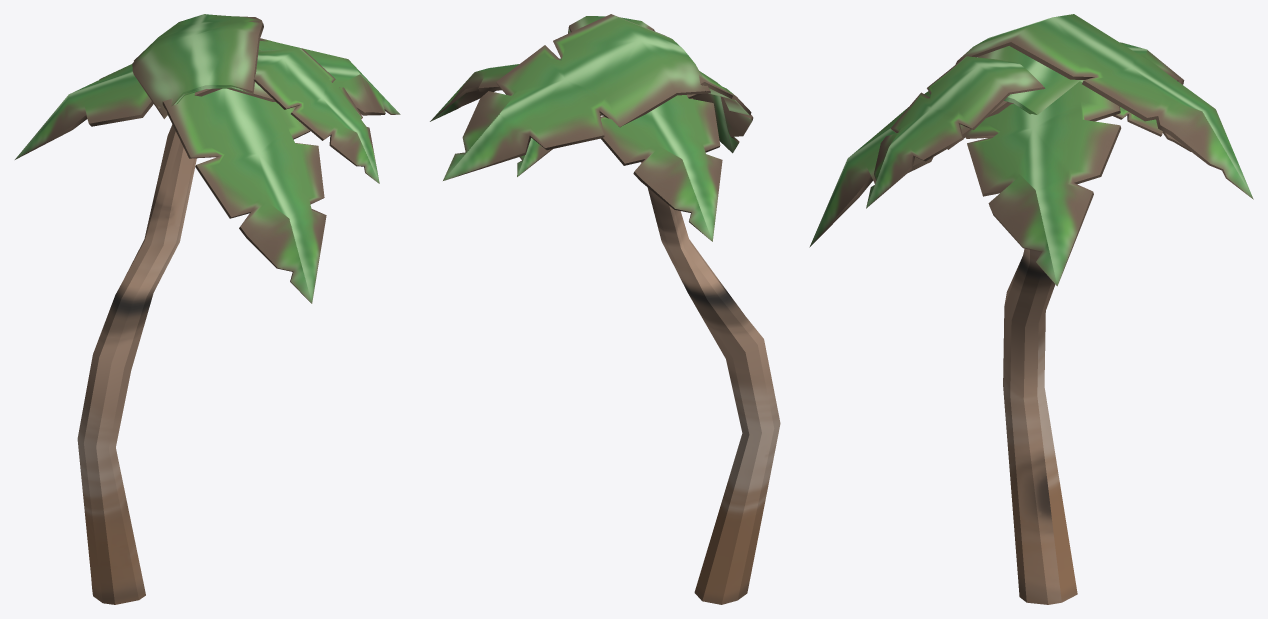
File: palme.fbx
The picture shows the model from 3 angles, left to right: view 1: azimuth 30°, elevation 25°; view 2: azimuth 150°, elevation 25°; view 3: azimuth 270°, elevation 25°; orthographic projection. The views are drawn at different scales.
Parts seen in each view (by area): view 1: Palme1_VR_Blad6; view 2: Palme1_VR_Blad6; view 3: Palme1_VR_Blad6.
Part boxes in pixels (<box>): Palme1_VR_Blad6: <box>15,14,400,604</box>; Palme1_VR_Blad6: <box>430,14,780,604</box>; Palme1_VR_Blad6: <box>809,14,1253,604</box>.
Bounding box in the file's own units: 5.81 × 9 × 5.8.
2 materials, 2 textured.
